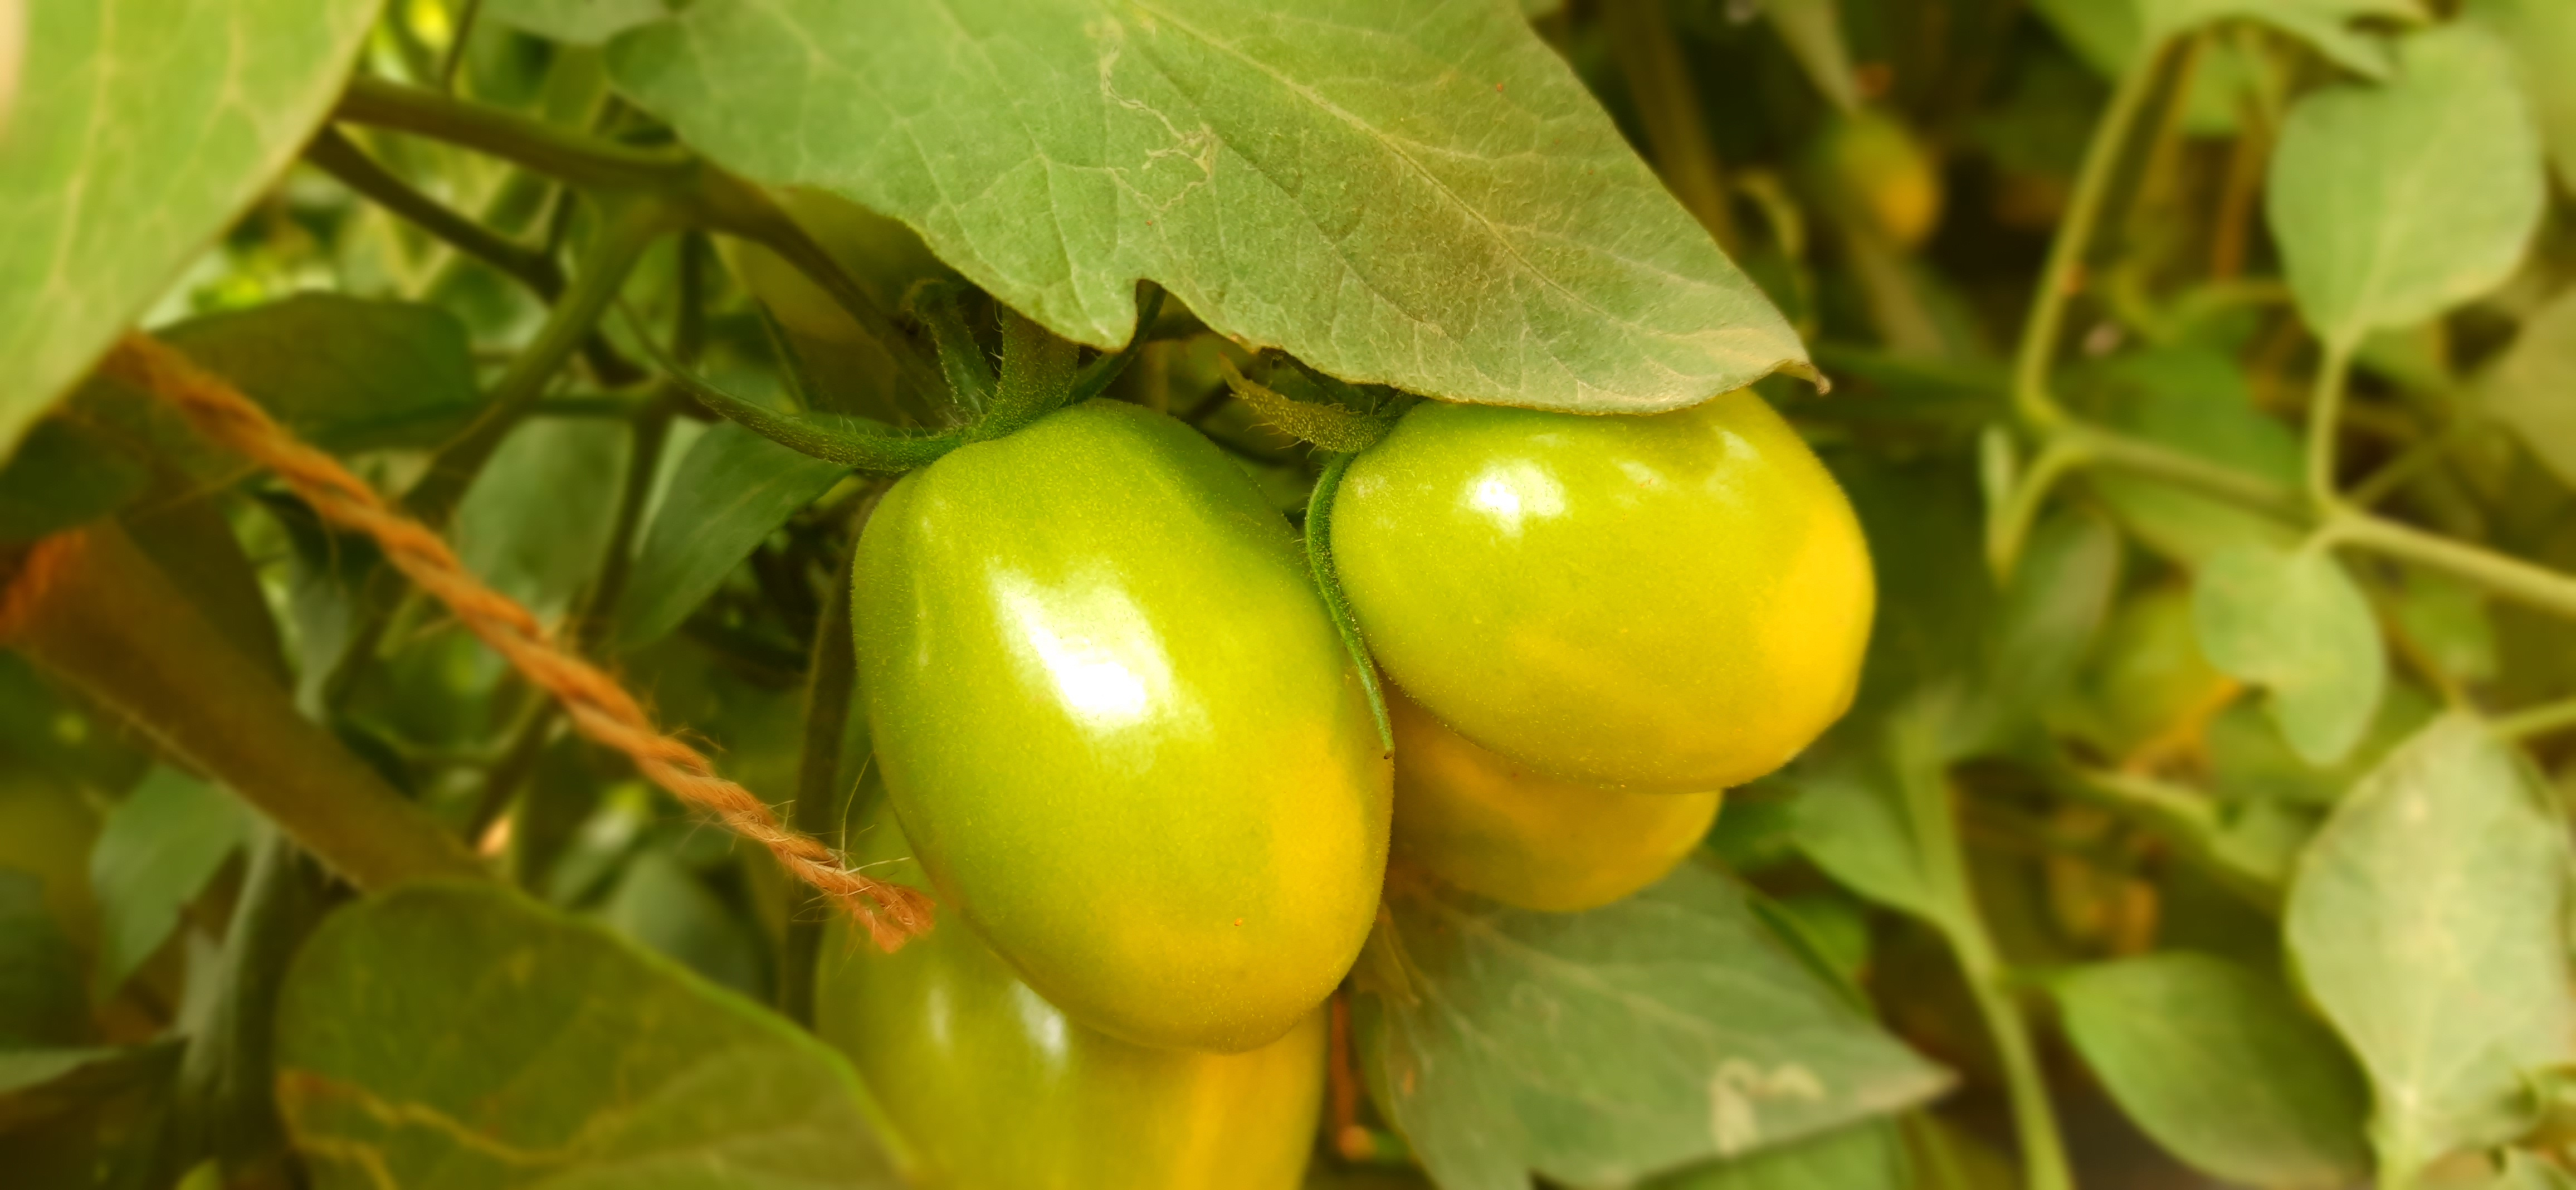raw_tomato: (843, 376, 1441, 1085)
